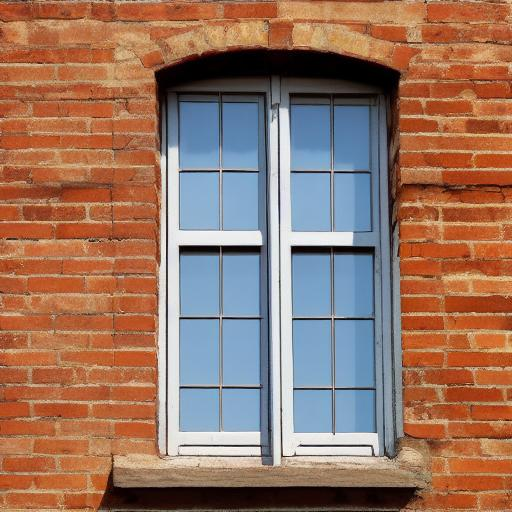Window: (109, 22, 433, 501)
